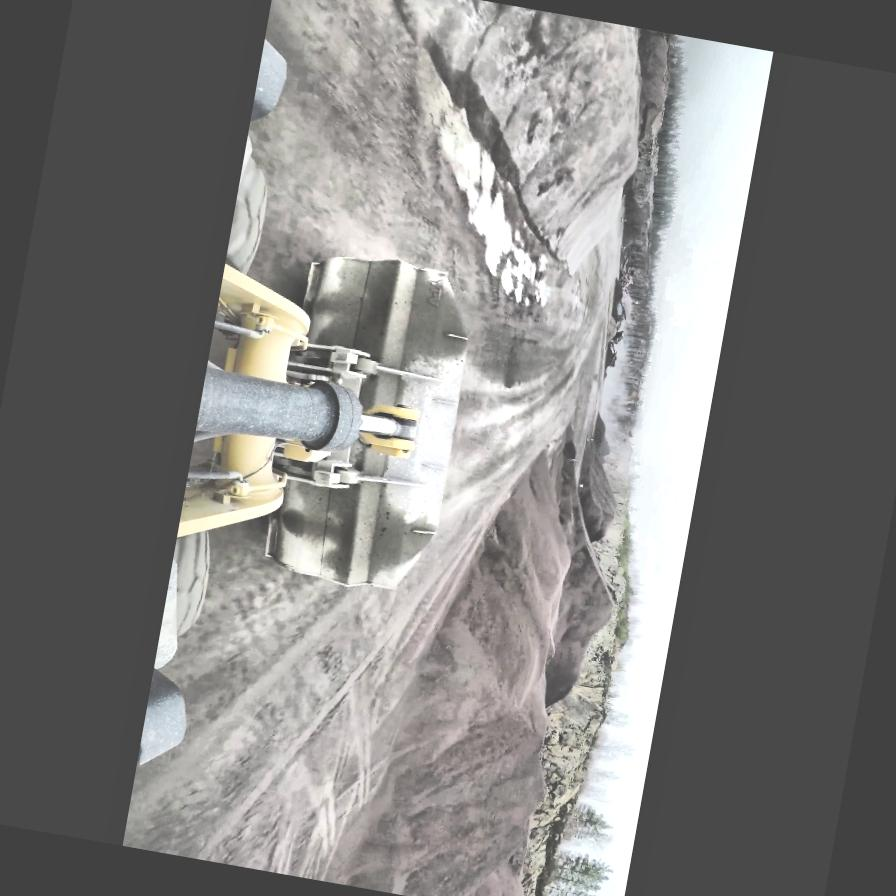anchor: (356, 396, 424, 455)
pile of gravel: (350, 438, 626, 896), (424, 0, 663, 277), (530, 448, 640, 692), (566, 429, 633, 547), (559, 173, 628, 281), (442, 848, 545, 896), (617, 185, 657, 250), (590, 412, 611, 458)
